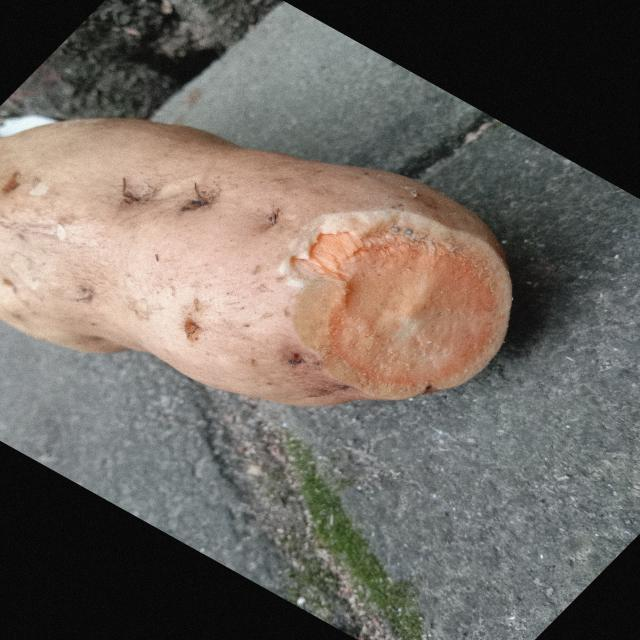Healthy Sweet Potato: (290, 209, 512, 400)
